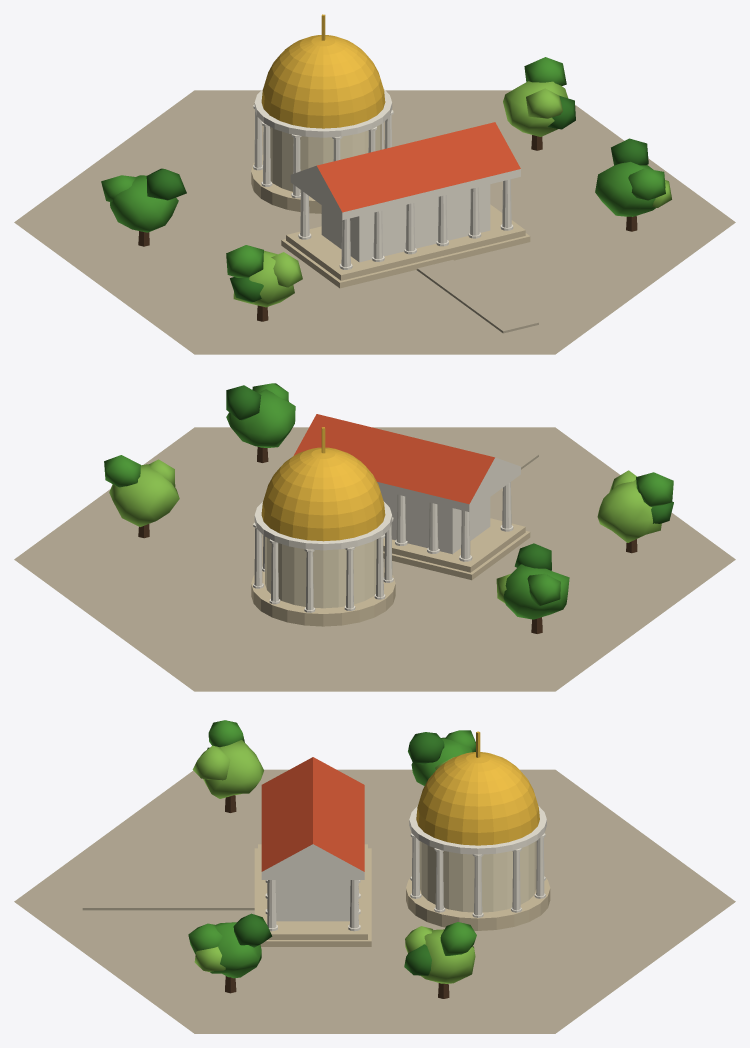
The model's file is district_holy_site_2.fbx.
3 renders of one model, top to bottom at view 1: azimuth 30°, elevation 25°; view 2: azimuth 150°, elevation 25°; view 3: azimuth 270°, elevation 25°, orthographic.
Visible parts, largest first — view 1: district_holy_site_2; view 2: district_holy_site_2; view 3: district_holy_site_2.
Part boxes in pixels (x1,y1,x2,y2): district_holy_site_2: (14, 14, 735, 354); district_holy_site_2: (14, 383, 735, 691); district_holy_site_2: (14, 720, 735, 1033).
Size of the model in its own units: 182 by 54.4 by 210.
